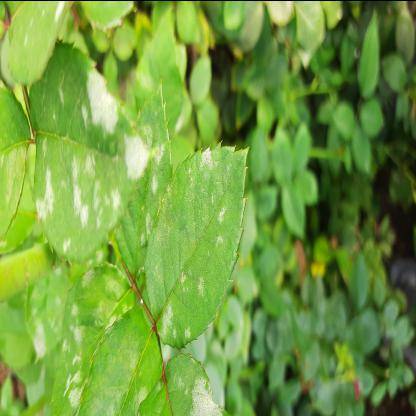powdery-mildew: (24, 38, 158, 250), (145, 134, 249, 346), (110, 20, 195, 268), (46, 263, 134, 411), (19, 254, 75, 360)
